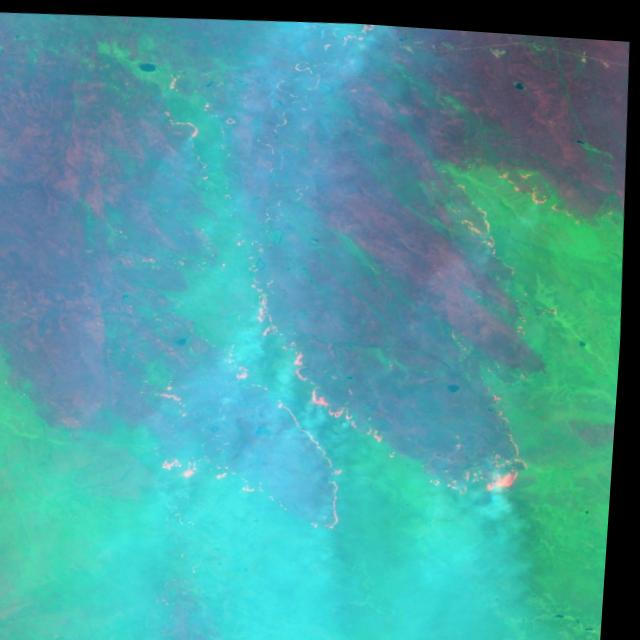fire: (132, 261, 547, 550)
